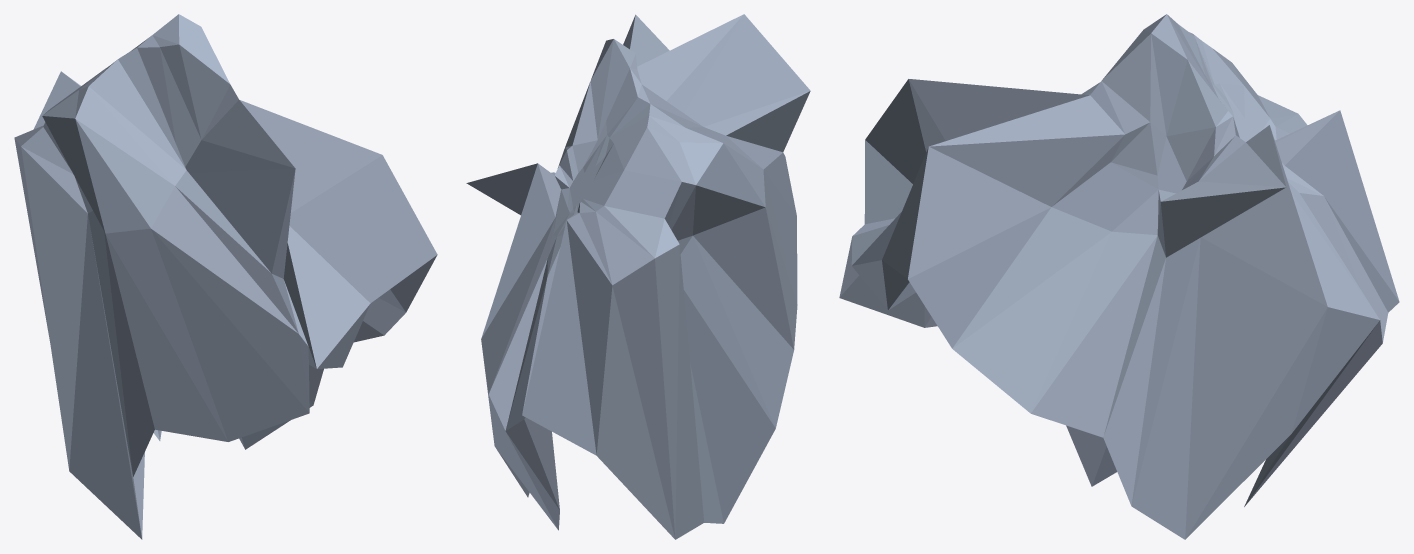
File: reconstruction.obj
3 renders of one model, left to right at view 1: azimuth 30°, elevation 25°; view 2: azimuth 150°, elevation 25°; view 3: azimuth 270°, elevation 25°, orthographic. The views are drawn at different scales.
Bounding box in the file's own units: 0.5502 × 1 × 1.
